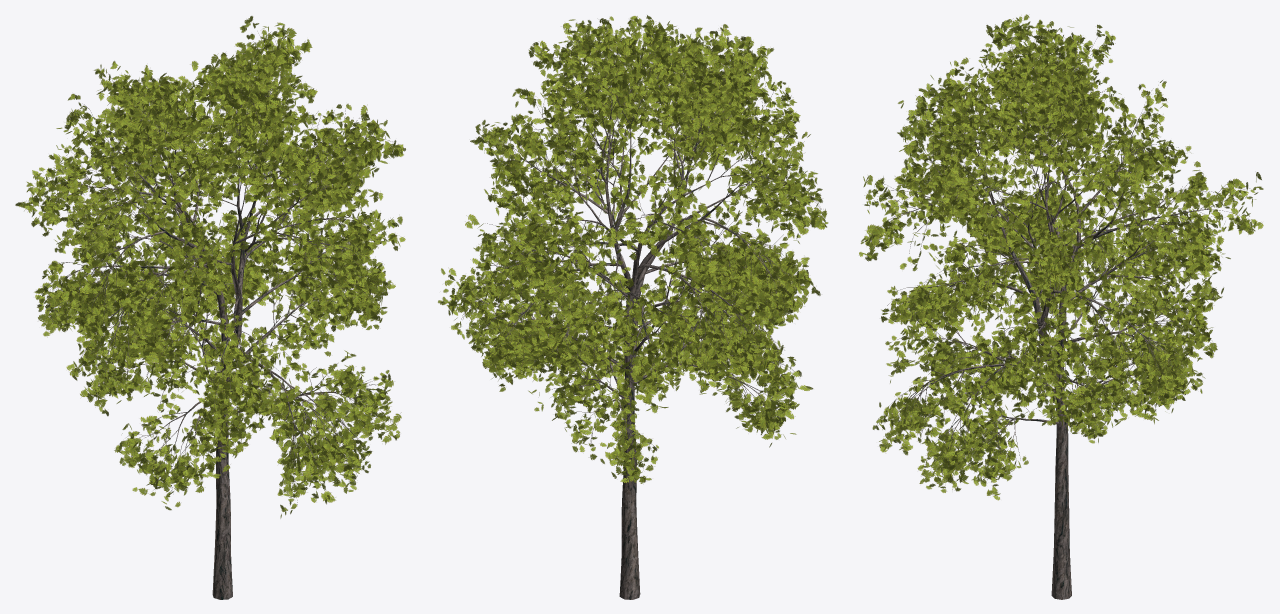
Rendered from tree_01_lod1.glb.
3 renders of one model, left to right at view 1: azimuth 30°, elevation 25°; view 2: azimuth 150°, elevation 25°; view 3: azimuth 270°, elevation 25°, orthographic. The views are drawn at different scales.
Visible parts, largest first — view 1: Tree_01_LOD1; view 2: Tree_01_LOD1; view 3: Tree_01_LOD1.
Boxes of the visible parts, <box> form: Tree_01_LOD1: <box>15,16,405,599</box>; Tree_01_LOD1: <box>438,15,828,599</box>; Tree_01_LOD1: <box>859,14,1263,599</box>.
Bounding box in the file's own units: 9.5 × 14.19 × 9.62.
Materials: 3 (3 with a texture image).
